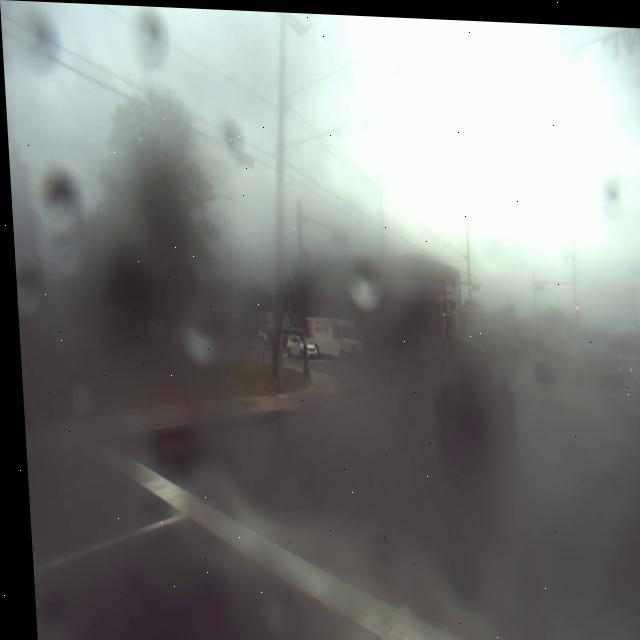car: (428, 348, 518, 435), (526, 342, 557, 378)
